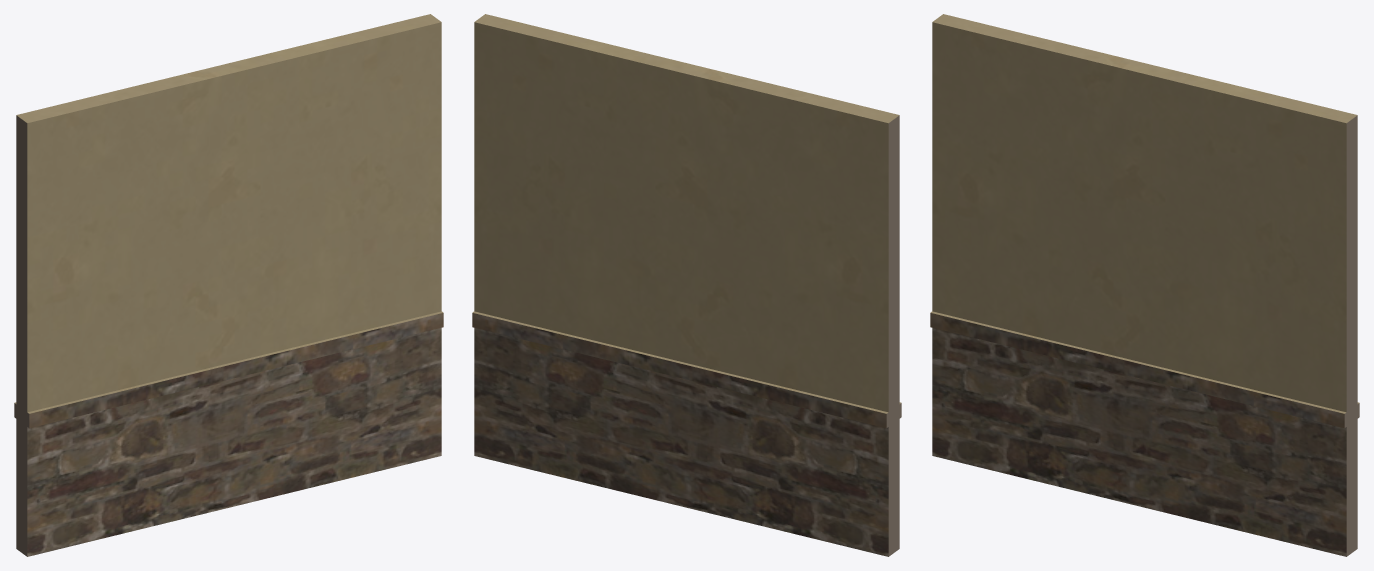
The model's file is wall01_full.glb.
The picture shows the model from 3 angles, left to right: view 1: azimuth 30°, elevation 25°; view 2: azimuth 150°, elevation 25°; view 3: azimuth 330°, elevation 25°; orthographic projection.
Parts seen in each view (by area): view 1: wall01_full; view 2: wall01_full; view 3: wall01_full.
Part boxes in pixels (x1=…): wall01_full: x1=14, y1=14, x2=443, y2=556; wall01_full: x1=472, y1=14, x2=901, y2=556; wall01_full: x1=930, y1=14, x2=1359, y2=556.
Size of the model in its own units: 3 by 3 by 0.19.
2 materials, 2 textured.
